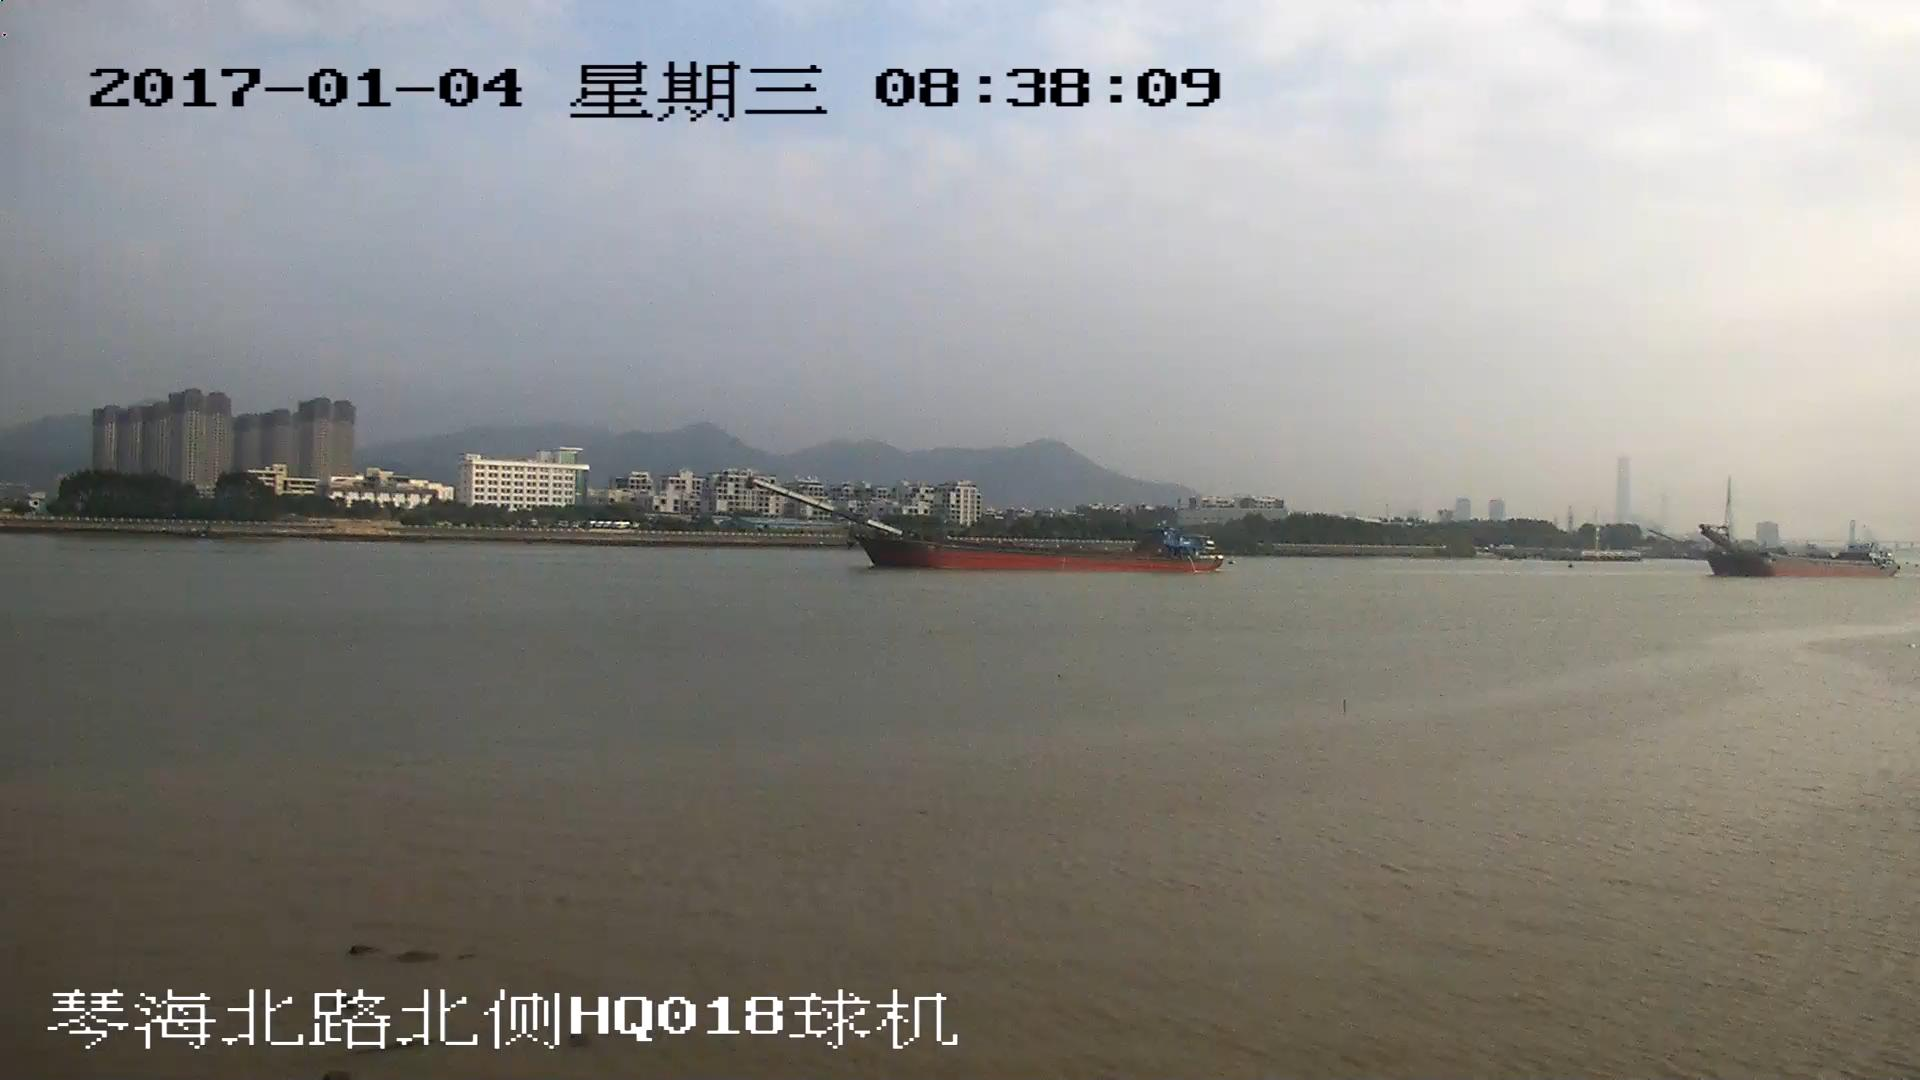bulk cargo carrier: (752, 480, 1226, 573), (1702, 528, 1901, 577)
